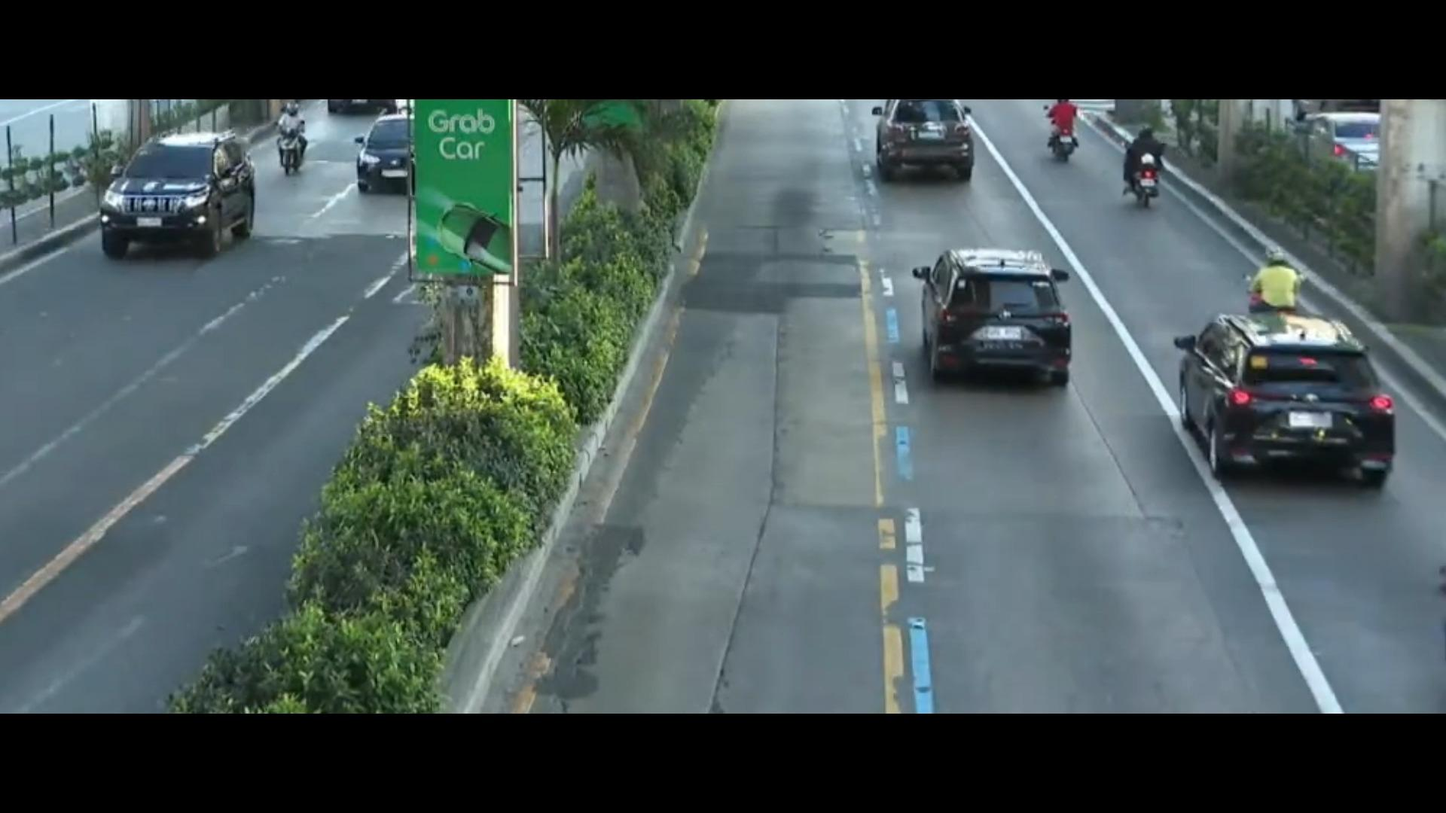Motorcycle: (1027, 98, 1102, 172), (1241, 239, 1313, 316), (250, 108, 317, 182), (1120, 123, 1177, 209)
SUV: (1164, 305, 1418, 503), (881, 232, 1087, 372), (91, 134, 268, 255), (829, 100, 991, 179)
Sedan: (357, 117, 425, 193)
